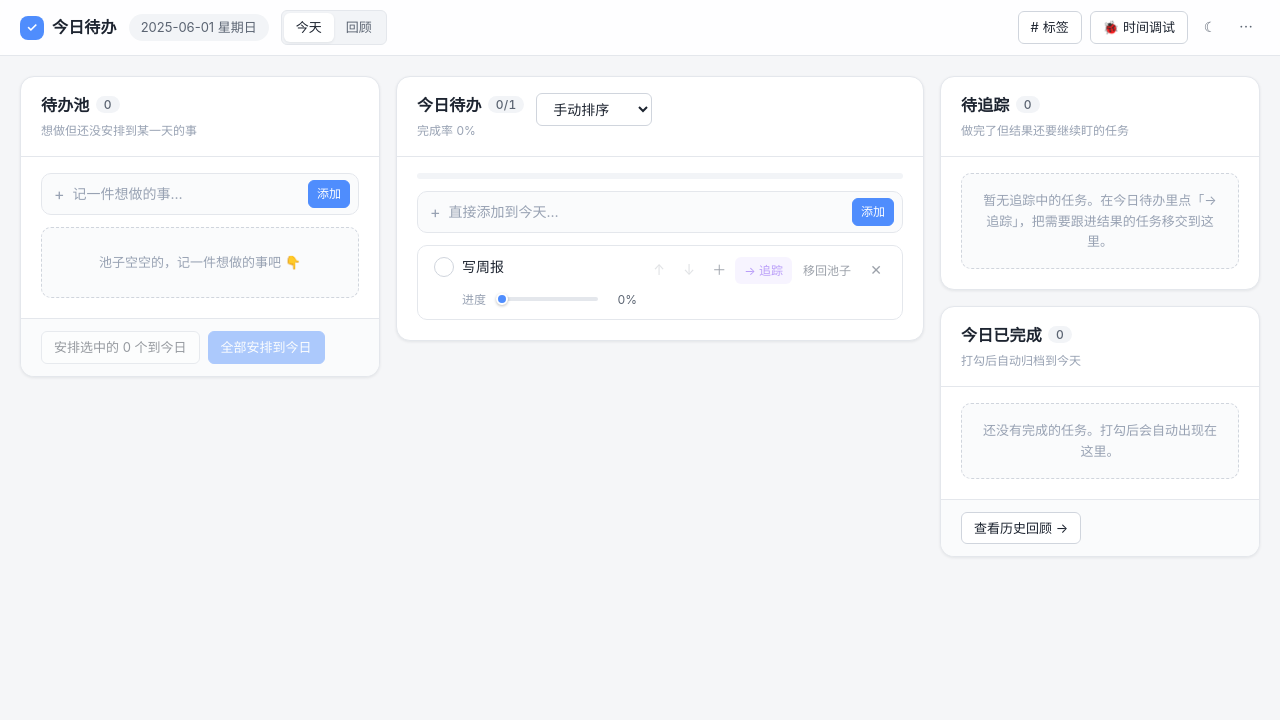
Test case: App 真实渲染（jsdom） › 编辑任务：可以设置优先级与标签，标签会显示在条目上
Note:  点标题进入编辑
Click the button "写周报" at (550, 267), box [462,256,637,279]
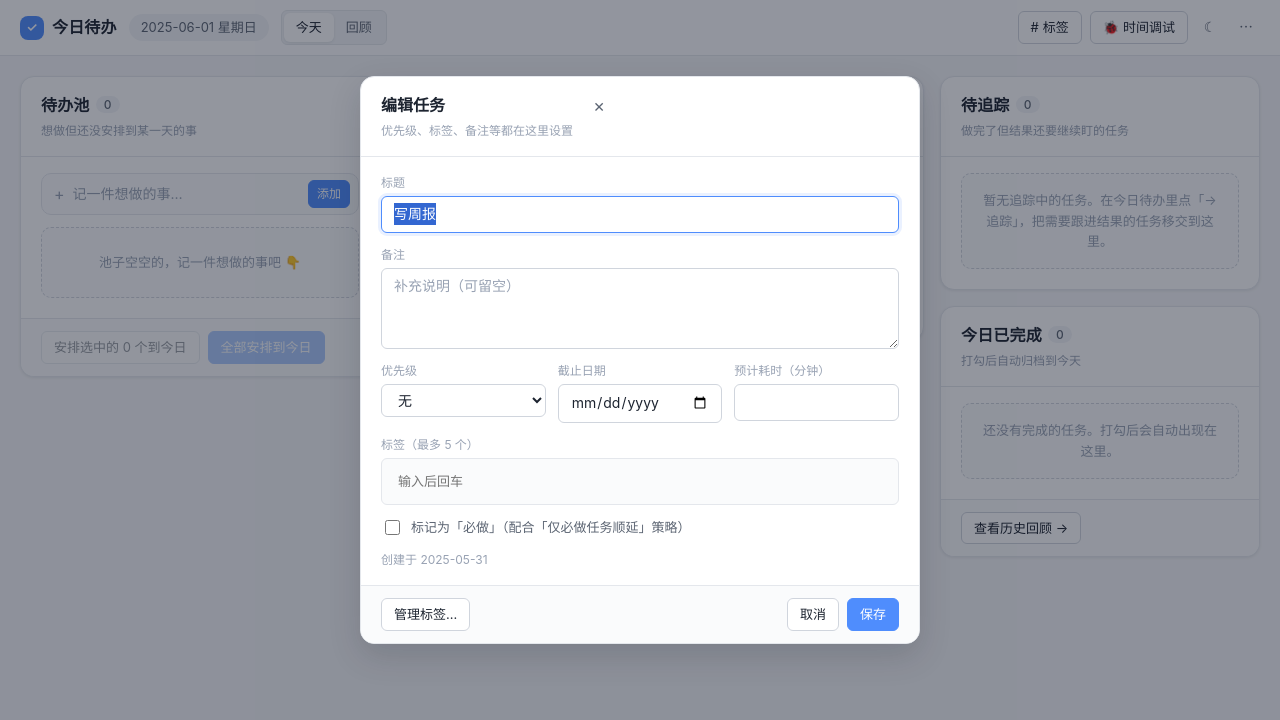
Select "高" in the dropdown labelled "优先级" at (463, 401), box [381,384,546,417]
Type "工作" into the field named "添加标签" at (640, 481), box [390,467,890,496]
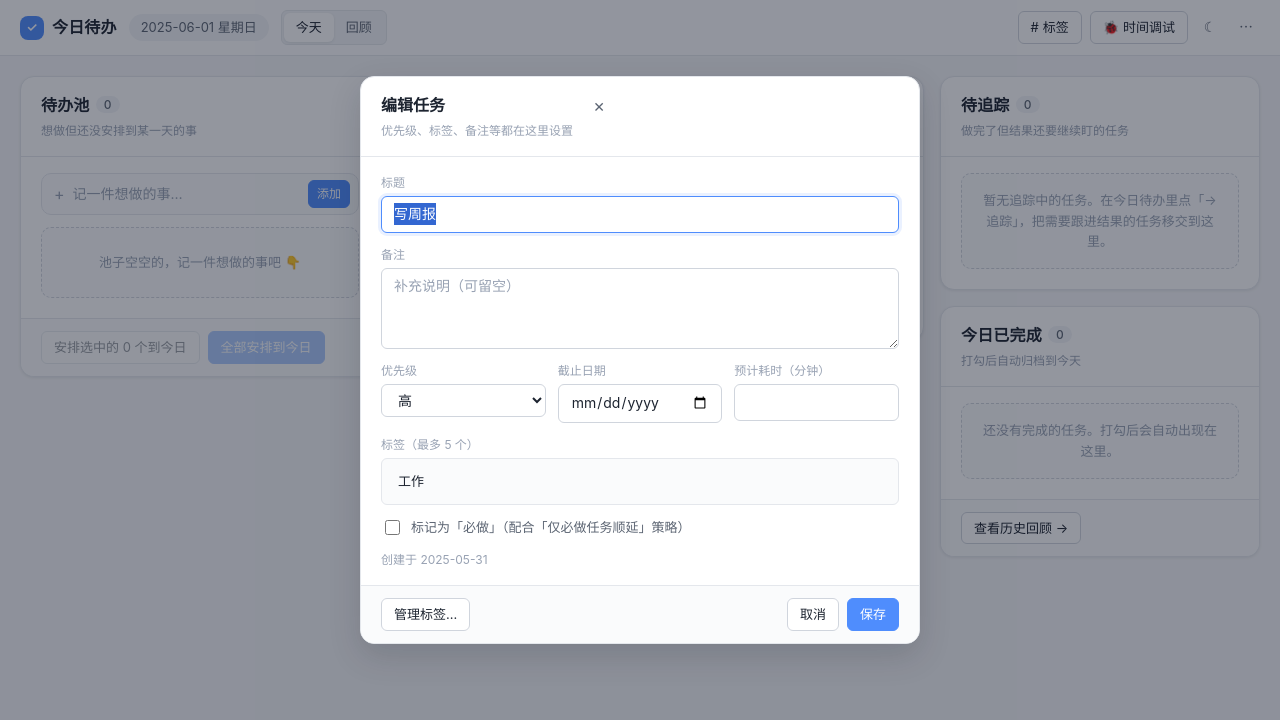
Press Enter in the field named "添加标签", box [390,467,890,496]
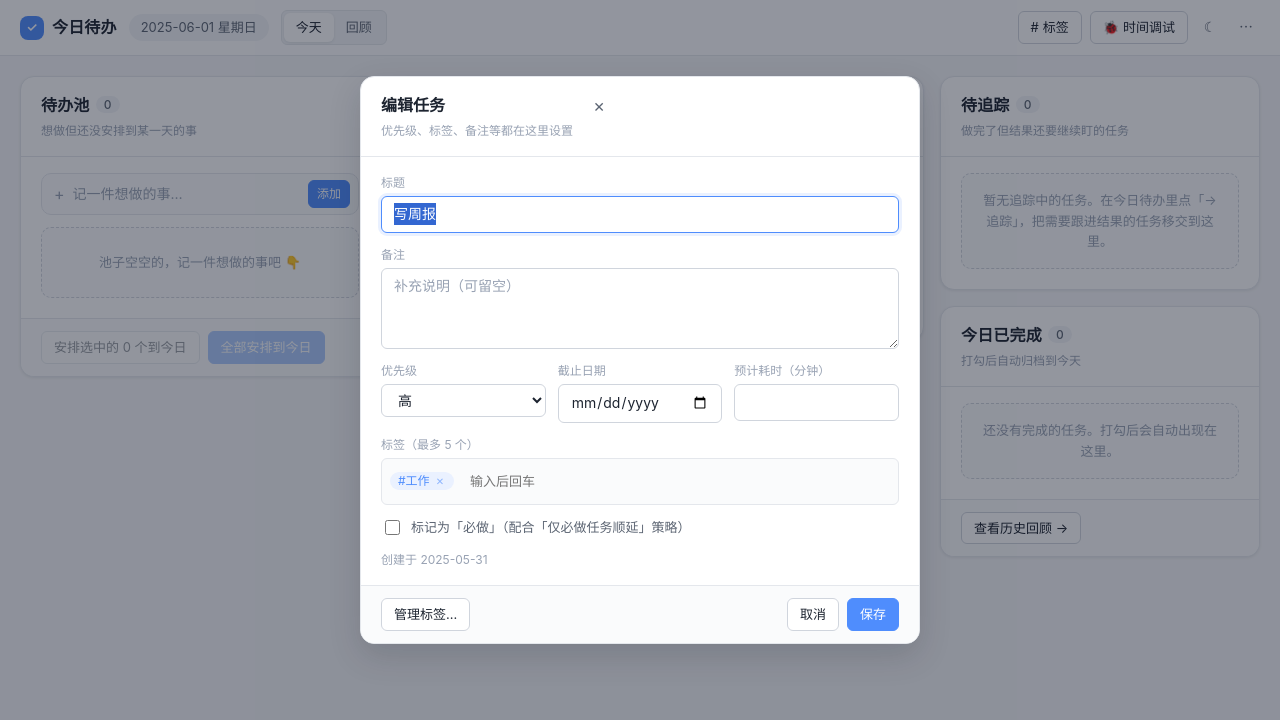
Type "重要" into the field named "添加标签" at (676, 481), box [462,467,890,496]
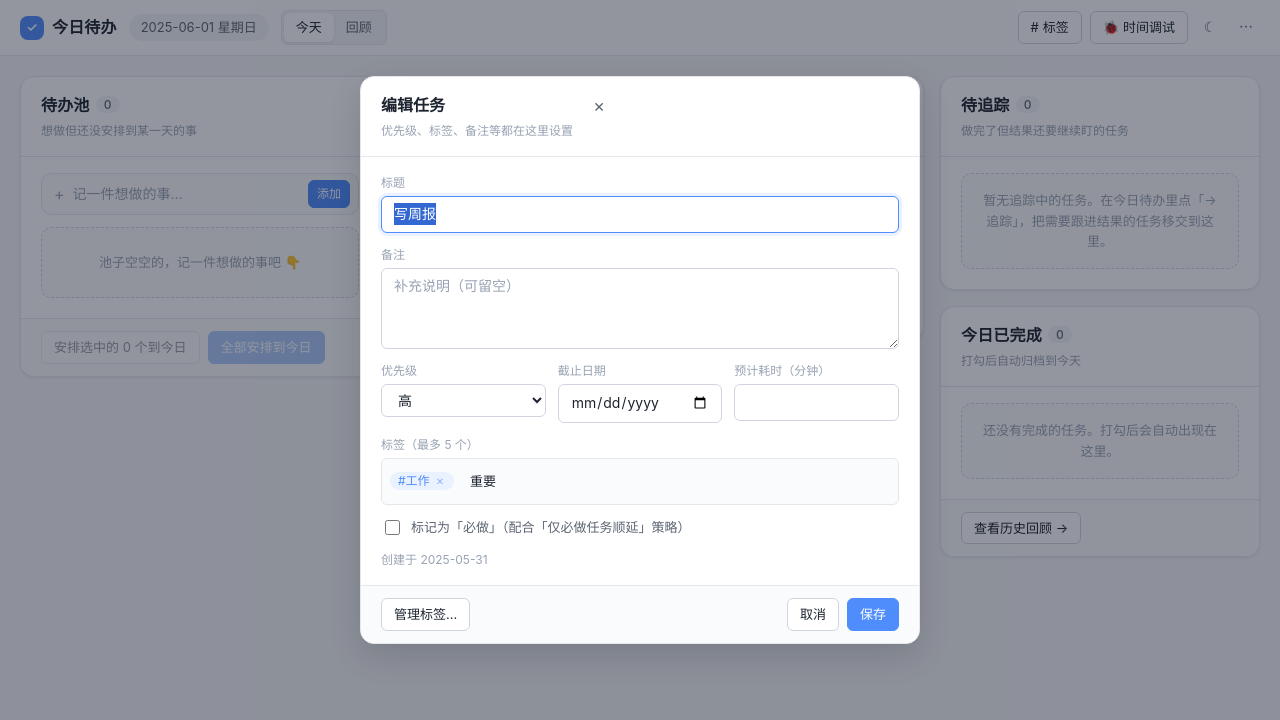
Press Enter in the field named "添加标签", box [462,467,890,496]
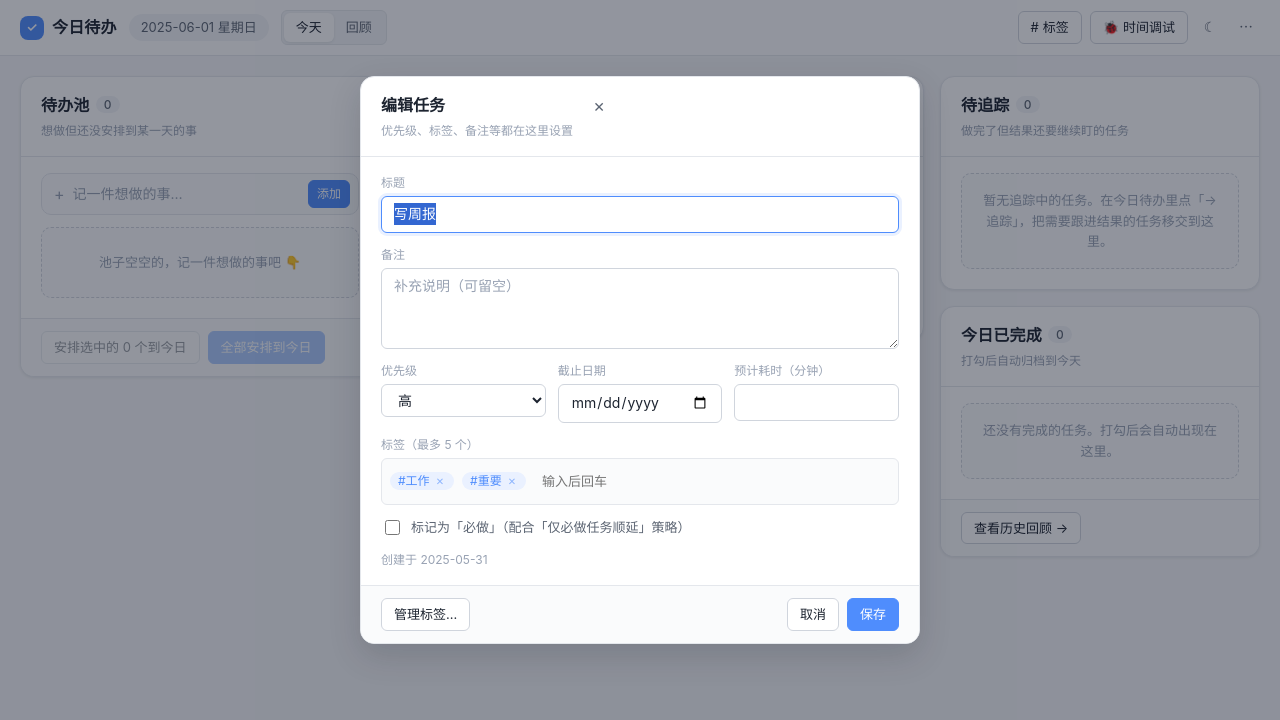
Click the button "保存" at (873, 614), box [847,598,899,631]
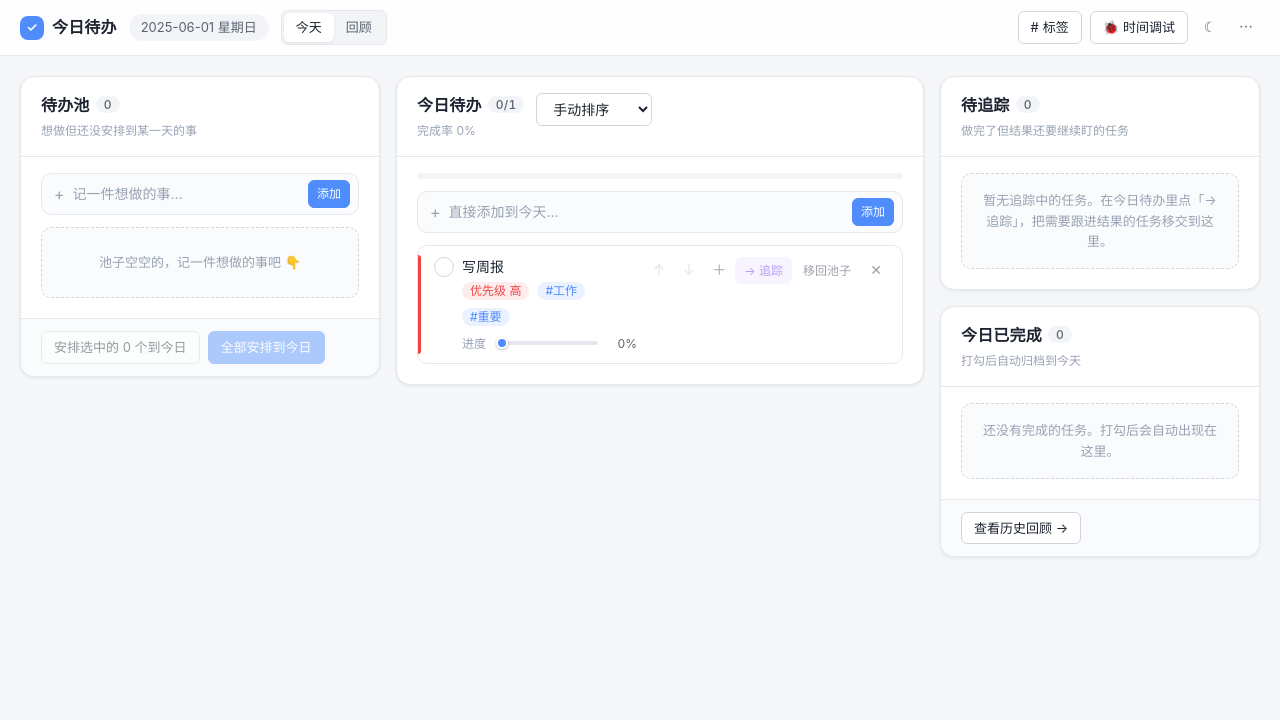
Result: the text "#工作" is shown at [537,282,585,300]
Result: the heading "编辑任务" is gone
Result: the text "优先级 高" is shown at [462,282,529,300]
